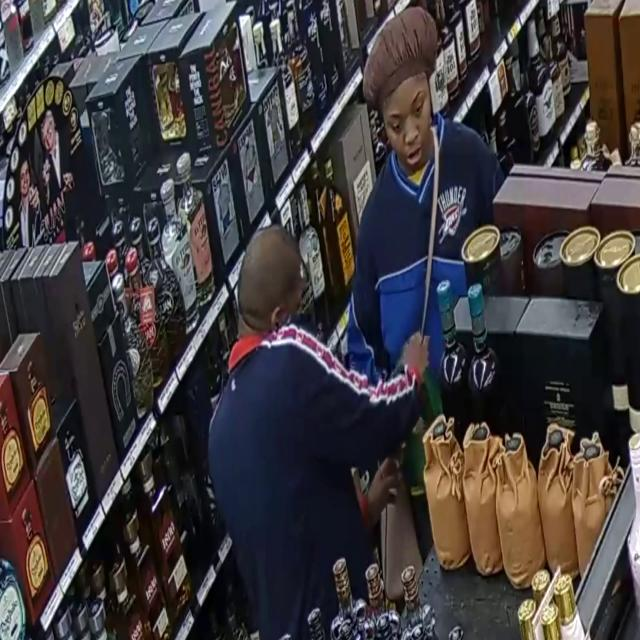Product: (391, 322, 445, 435)
normal: (337, 0, 540, 557)
shoplifting: (203, 220, 465, 640)
